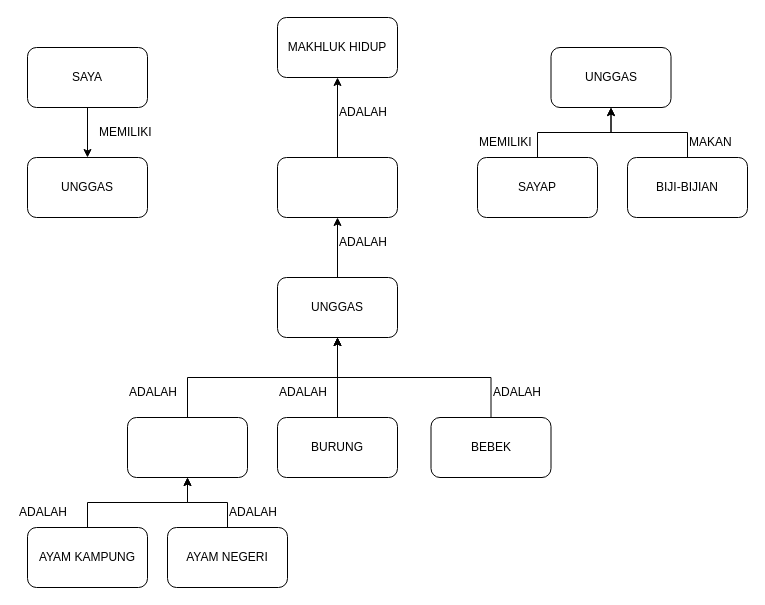
Image size: 765x605. Some labels were removed from this diagram. Here are the shapes that lost their labels. From the top down, the box of each, then its label:
(276, 156, 398, 218): HEWAN
(126, 416, 248, 478): AYAM
